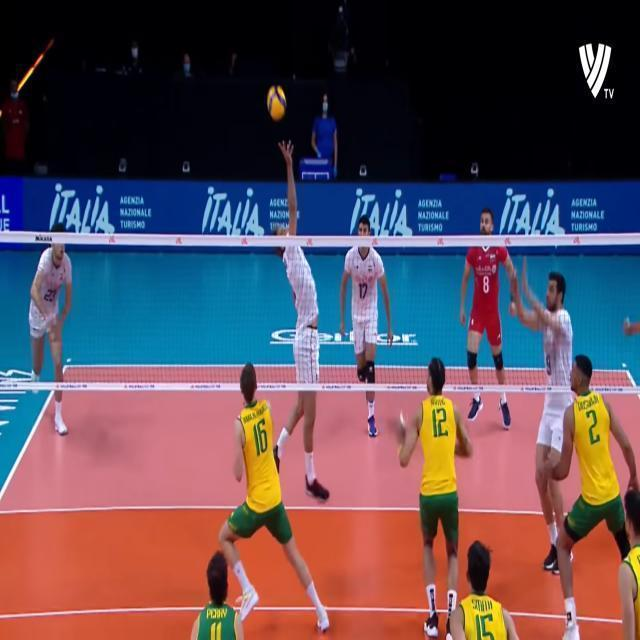volleyball: (266, 86, 286, 118)
